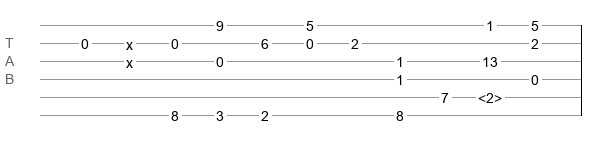0: (81, 36, 89, 46), (171, 36, 179, 46), (216, 54, 224, 64), (306, 36, 314, 46), (531, 72, 539, 82)
1: (396, 72, 404, 82), (396, 54, 404, 64), (486, 18, 494, 28)
13: (482, 54, 498, 64)
2: (261, 108, 269, 118), (351, 36, 359, 46), (531, 36, 539, 46)
3: (216, 108, 224, 118)
5: (306, 18, 314, 28), (531, 18, 539, 28)
6: (261, 36, 269, 46)
7: (441, 90, 449, 100)
8: (171, 108, 179, 118), (396, 108, 404, 118)
9: (216, 18, 224, 28)
harmonic: (478, 90, 502, 100)
x: (126, 37, 133, 45), (126, 55, 133, 63)
